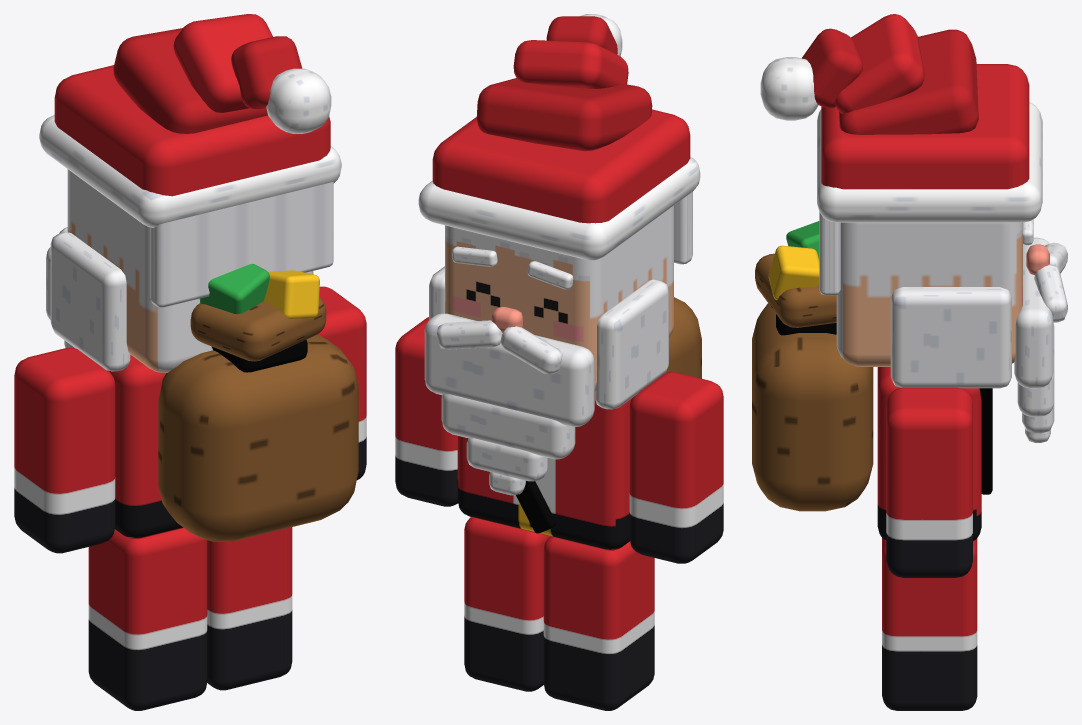
Rendered from santa-BRtdpI1Y.glb.
3 renders of one model, left to right at view 1: azimuth 30°, elevation 25°; view 2: azimuth 150°, elevation 25°; view 3: azimuth 270°, elevation 25°, orthographic. The views are drawn at different scales.
Parts seen in each view (by area): view 1: neck_mesh, hips_mesh, legL_mesh, armL_mesh, legR_mesh, armR_mesh; view 2: neck_mesh, legL_mesh, armL_mesh, hips_mesh, legR_mesh, armR_mesh; view 3: neck_mesh, hips_mesh, armR_mesh, legR_mesh.
Part boxes in pixels (left/top/right/bottom): neck_mesh: left=39, top=14, right=341, bottom=372; hips_mesh: left=109, top=263, right=358, bottom=541; legL_mesh: left=88, top=528, right=207, bottom=710; armL_mesh: left=14, top=347, right=115, bottom=553; legR_mesh: left=207, top=527, right=292, bottom=690; armR_mesh: left=318, top=286, right=366, bottom=479; neck_mesh: left=418, top=14, right=700, bottom=495; legL_mesh: left=543, top=536, right=654, bottom=710; armL_mesh: left=629, top=372, right=723, bottom=563; hips_mesh: left=457, top=297, right=701, bottom=550; legR_mesh: left=464, top=517, right=549, bottom=691; armR_mesh: left=395, top=317, right=458, bottom=506; neck_mesh: left=760, top=14, right=1067, bottom=442; hips_mesh: left=752, top=221, right=992, bottom=541; armR_mesh: left=886, top=387, right=972, bottom=577; legR_mesh: left=882, top=538, right=977, bottom=710.
Size of the model in its own units: 1.66 by 3.33 by 1.46.
Materials: 1 (1 with a texture image).
